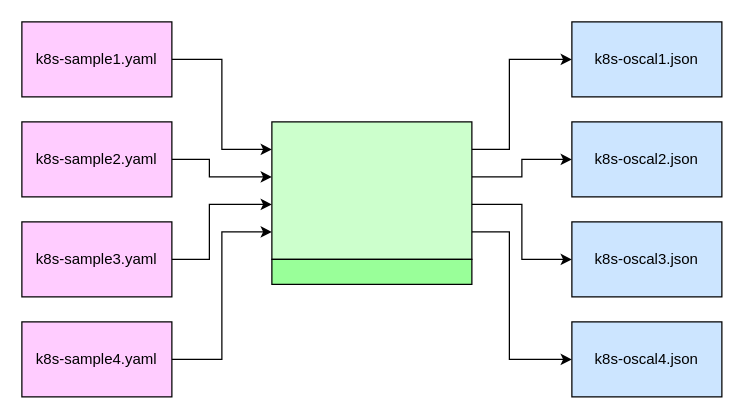
The diagram is 744 pixels wide and 419 high, and some of its shapes have lost their labels. Each missing label, with the centre of its shape:
k8s_yaml_to_oscal_json transformer: (x=371, y=190)
trestle: (x=371, y=271)
